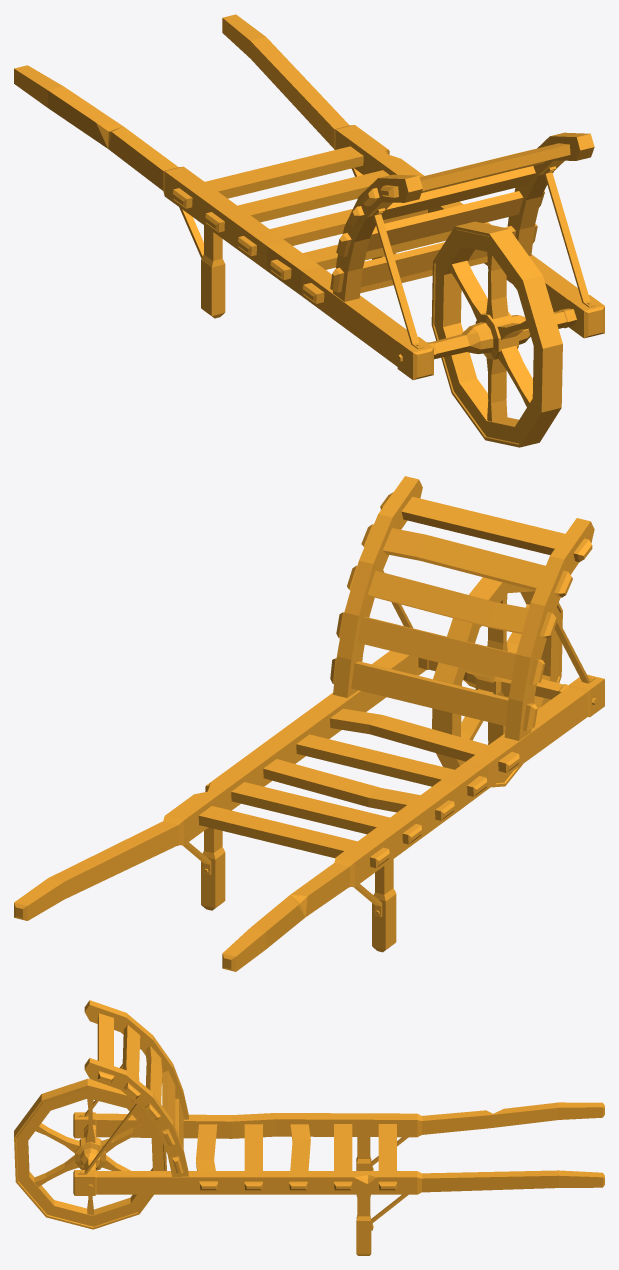
Rendered from SM_Wheelbarrow_Wooden_A.fbx.
3 renders of one model, top to bottom at view 1: azimuth 30°, elevation 25°; view 2: azimuth 150°, elevation 25°; view 3: azimuth 270°, elevation 25°, orthographic. The views are drawn at different scales.
Parts seen in each view (by area): view 1: wheelbarrow-wooden-a-base, wheelbarrow-wooden-a-wheel; view 2: wheelbarrow-wooden-a-base, wheelbarrow-wooden-a-wheel; view 3: wheelbarrow-wooden-a-base, wheelbarrow-wooden-a-wheel.
Boxes of the visible parts, x1=… form: wheelbarrow-wooden-a-base: x1=14, y1=14, x2=604, y2=379; wheelbarrow-wooden-a-wheel: x1=397, y1=221, x2=576, y2=447; wheelbarrow-wooden-a-base: x1=14, y1=476, x2=604, y2=971; wheelbarrow-wooden-a-wheel: x1=418, y1=577, x2=596, y2=787; wheelbarrow-wooden-a-base: x1=73, y1=1000, x2=604, y2=1255; wheelbarrow-wooden-a-wheel: x1=14, y1=1078, x2=166, y2=1229.
Bounding box in the file's own units: 0.6638 × 0.8093 × 2.22.
